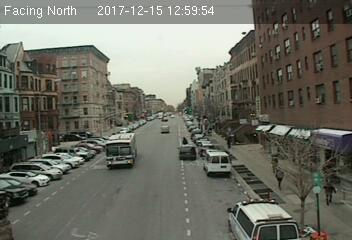bus: (106, 133, 137, 167)
car: (177, 144, 198, 161)
pedestrian: (275, 166, 286, 191)
police: (223, 197, 304, 240)
truck: (205, 151, 232, 177)
